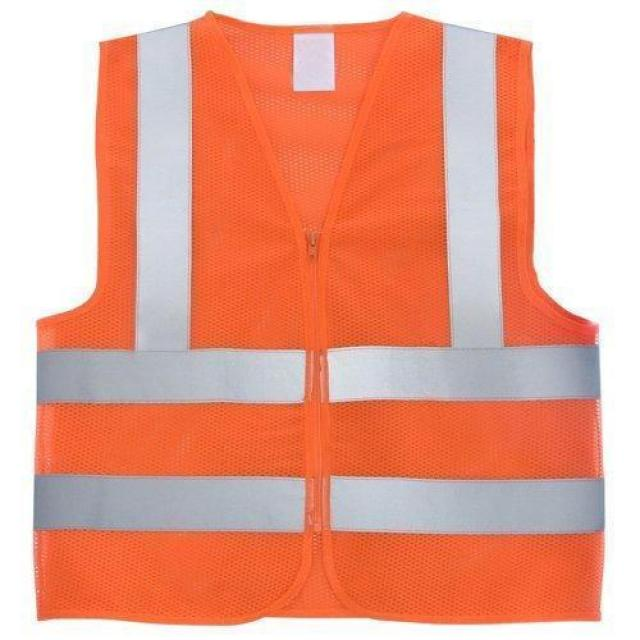Vest: (27, 10, 609, 625)
